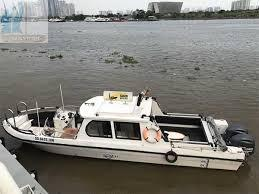Ship: (4, 92, 255, 171)
